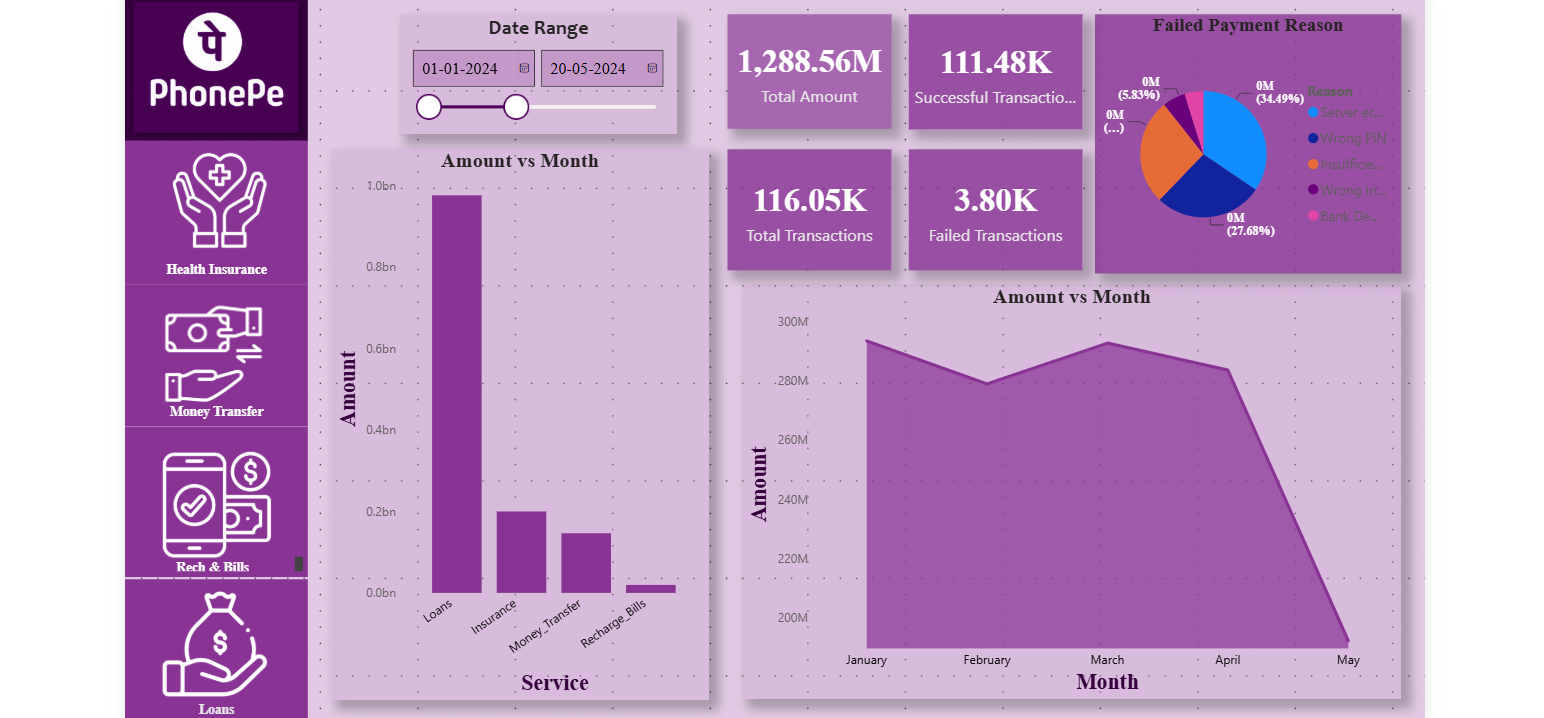

The dashboard page shown, as its layout file describes it:
{"tool":"powerbi","page":{"name":"Home","canvas":[1280,720],"ordinal":0},"visuals":[{"type":"shape","box":[0,0,180,146.7],"z":0},{"type":"shape","box":[0,144.7,180,141.7],"z":1000,"group":"g3"},{"type":"shape","box":[0,576.7,180,143.3],"z":1000},{"type":"slicer","title":"Date Range","fields":{"Values":["All_Transactions.Date"]},"box":[270.3,20.6,273.1,118],"z":2000},{"type":"shape","box":[0,286.4,180,140],"z":2000,"group":"g4"},{"type":"card","fields":{"Values":["Count(All_Transactions.Transaction_ID)"]},"box":[592.8,153.7,161.9,119.4],"z":3000},{"type":"shape","box":[0,426.4,180,148.3],"z":3000,"group":"g1"},{"type":"pieChart","title":"Failed Payment Reason","fields":{"Category":["All_Transactions.Reason"],"Y":["CountNonNull(All_Transactions.Reason)"]},"box":[955.1,20.6,301.9,255.2],"z":4000},{"type":"card","fields":{"Values":["Sum(All_Transactions.Amount)"]},"box":[592.8,20.6,161.9,112.5],"z":5000},{"type":"card","fields":{"Values":["Count(All_Transactions.Transaction_ID)"]},"box":[771.2,153.7,171.5,119.4],"z":6000},{"type":"card","fields":{"Values":["Count(All_Transactions.Transaction_ID)"]},"box":[771.2,20.6,171.5,113.9],"z":7000},{"type":"areaChart","title":"Amount vs Month","fields":{"Y":["Sum(All_Transactions.Amount)"],"Category":["All_Transactions.Date.Variation.Date Hierarchy.Month"]},"box":[607.9,288.2,649.1,407.5],"z":8000},{"type":"clusteredColumnChart","title":"Amount vs Month","fields":{"Category":["All_Transactions.Service"],"Y":["Sum(All_Transactions.Amount)"]},"box":[203.1,153.7,371.9,542],"z":9000},{"type":"group","id":"g1","title":"Group 3","box":[0,144.7,180.9,429.9],"z":10000},{"type":"textbox","box":[0,256.9,180.4,29.4],"z":10000,"group":"g3"},{"type":"group","id":"g2","title":"Group 4","box":[0,690.8,180.4,29.4],"z":11000},{"type":"image","box":[8.3,4.2,162.8,130.8],"z":12000},{"type":"image","box":[18.3,148.3,150,110],"z":13000},{"type":"image","box":[15,303.3,145,105],"z":14000},{"type":"image","box":[13.3,443.3,153.3,121.7],"z":15000},{"type":"image","box":[16,581.6,148.5,114.1],"z":16000},{"type":"textbox","box":[0,690.8,180.4,29.4],"z":19000,"group":"g2"},{"type":"textbox","box":[0,396.8,180.4,29.4],"z":20000,"group":"g4"},{"type":"textbox","box":[0,550.2,180.4,24.5],"z":21000,"group":"g1"},{"type":"group","id":"g3","title":"Group 1","box":[0,144.7,180.4,141.7],"z":23001,"group":"g4"},{"type":"group","id":"g4","title":"Group 2","box":[0,144.7,180.4,281.7],"z":23002,"group":"g1"}]}

Visuals, with their boxes on the page's 1280x720 design canvas (x1, y1, x2, y2). These are canvas units, not pixel positions in the 1544x718 screenshot, which may show the page scaled, cropped or inside an application window:
shape: 0/0/180/147
shape: 0/145/180/286
shape: 0/577/180/720
"Date Range" slicer: 270/21/543/139
shape: 0/286/180/426
card - Count(All_Transactions.Transaction_ID): 593/154/755/273
shape: 0/426/180/575
"Failed Payment Reason" pieChart: 955/21/1257/276
card - Sum(All_Transactions.Amount): 593/21/755/133
card - Count(All_Transactions.Transaction_ID): 771/154/943/273
card - Count(All_Transactions.Transaction_ID): 771/21/943/134
"Amount vs Month" areaChart: 608/288/1257/696
"Amount vs Month" clusteredColumnChart: 203/154/575/696
"Group 3" group: 0/145/181/575
textbox: 0/257/180/286
"Group 4" group: 0/691/180/720
image: 8/4/171/135
image: 18/148/168/258
image: 15/303/160/408
image: 13/443/167/565
image: 16/582/164/696
textbox: 0/691/180/720
textbox: 0/397/180/426
textbox: 0/550/180/575
"Group 1" group: 0/145/180/286
"Group 2" group: 0/145/180/426
